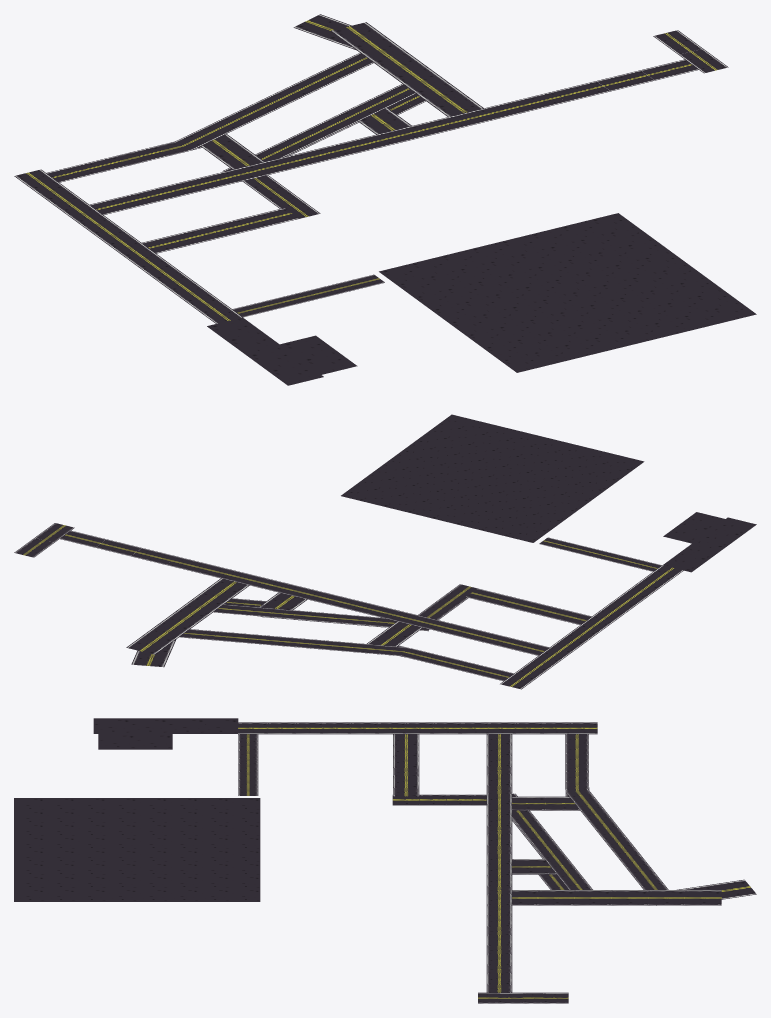
Rendered from Roads.fbx.
3 views of the same model, one above another, from view 1: azimuth 30°, elevation 25°; view 2: azimuth 150°, elevation 25°; view 3: azimuth 270°, elevation 25° (orthographic). The views are drawn at different scales.
Parts seen in each view (by area): view 1: Road___118_, Road___59_, Road___11_, Road___60_, Road___58_, Road___61_, Road___41_, Road___38_, Road___65_, Road___39_, Road___49_, Road___42_ (+3 smaller); view 2: Road___118_, Road___58_, Road___59_, Road___41_, Road___11_, Road___60_, Road___61_, Road___65_, Road___39_, Road___38_, Road___49_, Road___42_ (+1 smaller); view 3: Road___118_, Road___11_, Road___58_, Road___60_, Road___59_, Road___61_, Road___38_, Road___65_, Road___41_, Road___39_, Road___49_, Road___109_ (+3 smaller).
Boxes of the visible parts, left/top/right/bottom form: Road___118_: left=379, top=213, right=756, bottom=372; Road___59_: left=267, top=361, right=323, bottom=385; Road___11_: left=226, top=331, right=281, bottom=355; Road___60_: left=280, top=335, right=336, bottom=359; Road___58_: left=246, top=346, right=302, bottom=370; Road___61_: left=301, top=351, right=357, bottom=374; Road___41_: left=372, top=52, right=427, bottom=76; Road___38_: left=393, top=67, right=448, bottom=91; Road___65_: left=331, top=22, right=386, bottom=45; Road___39_: left=413, top=83, right=469, bottom=106; Road___49_: left=351, top=37, right=407, bottom=60; Road___42_: left=358, top=111, right=411, bottom=134; Road___118_: left=341, top=414, right=644, bottom=542; Road___58_: left=695, top=529, right=739, bottom=548; Road___59_: left=711, top=517, right=756, bottom=536; Road___41_: left=159, top=611, right=204, bottom=630; Road___11_: left=678, top=542, right=722, bottom=561; Road___60_: left=663, top=524, right=708, bottom=543; Road___61_: left=680, top=512, right=725, bottom=531; Road___65_: left=126, top=635, right=171, bottom=654; Road___39_: left=192, top=587, right=237, bottom=606; Road___38_: left=176, top=599, right=220, bottom=618; Road___49_: left=143, top=623, right=187, bottom=642; Road___42_: left=262, top=592, right=307, bottom=610; Road___118_: left=14, top=798, right=260, bottom=901; Road___11_: left=167, top=718, right=204, bottom=733; Road___58_: left=130, top=718, right=167, bottom=733; Road___60_: left=135, top=734, right=172, bottom=749; Road___59_: left=93, top=718, right=130, bottom=733; Road___61_: left=98, top=734, right=135, bottom=749; Road___38_: left=574, top=890, right=611, bottom=905; Road___65_: left=684, top=890, right=721, bottom=905; Road___41_: left=611, top=890, right=648, bottom=905; Road___39_: left=537, top=890, right=574, bottom=905; Road___49_: left=647, top=890, right=684, bottom=905; Road___109_: left=710, top=879, right=756, bottom=899.
Size of the model in its own units: 18158 by 38.86 by 19995.
